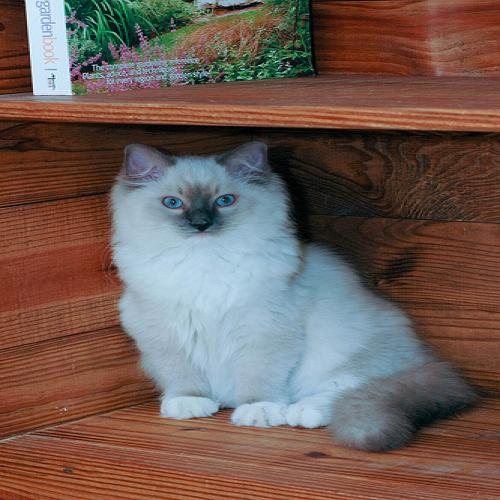ragdoll: (96, 138, 294, 250)
